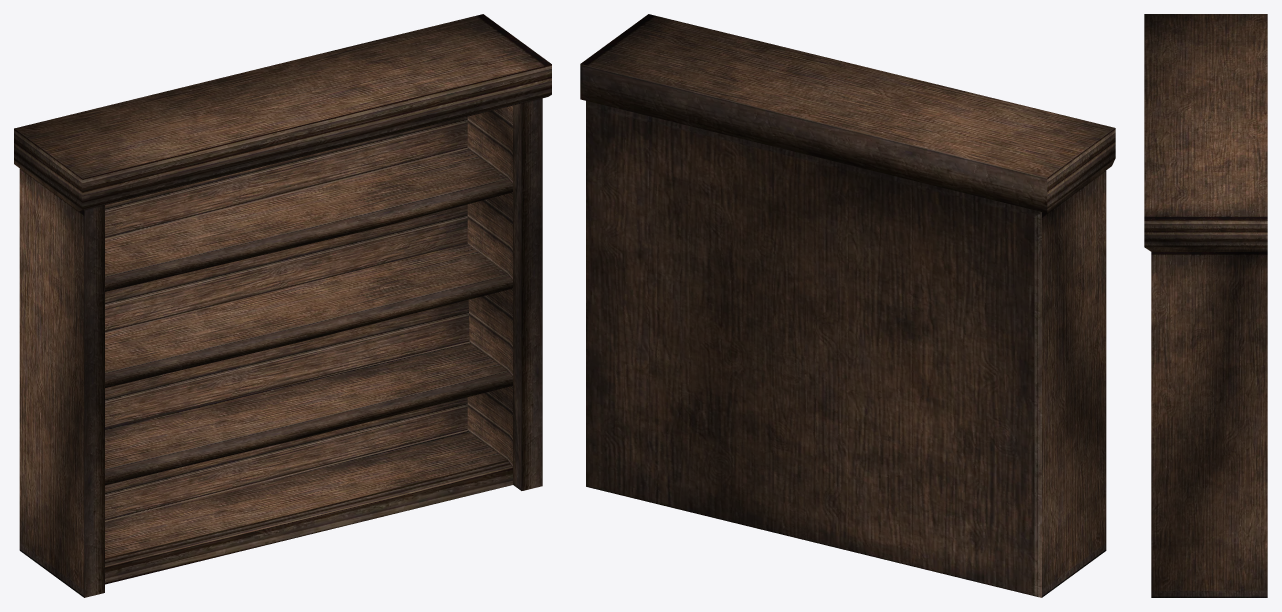
The model's file is GS_SINGLE_OPEN_STORAGE_ORANGE_01_KOZA.glb.
The picture shows the model from 3 angles, left to right: view 1: azimuth 30°, elevation 25°; view 2: azimuth 150°, elevation 25°; view 3: azimuth 270°, elevation 25°; orthographic projection. The views are drawn at different scales.
Visible parts, largest first — view 1: Mesh; view 2: Mesh; view 3: Mesh.
Part boxes in pixels (left/top/right/bottom): Mesh: left=14, top=14, right=551, bottom=597; Mesh: left=580, top=14, right=1115, bottom=597; Mesh: left=1144, top=14, right=1267, bottom=597.
Size of the model in its own units: 3.15 by 2.72 by 0.7984.
Materials: 2 (2 with a texture image).
